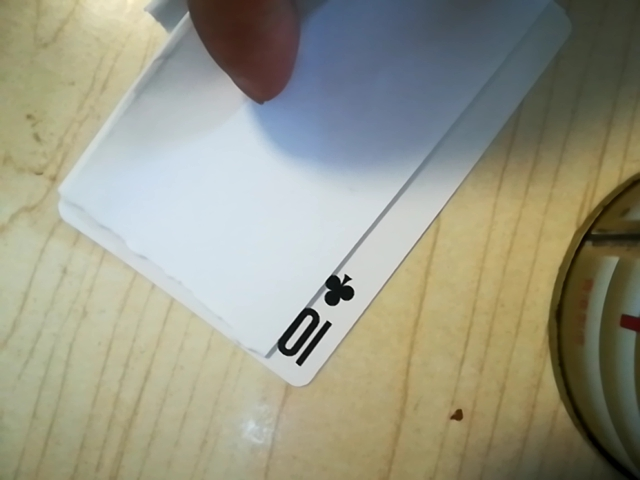mh 10: (264, 260, 367, 379)
